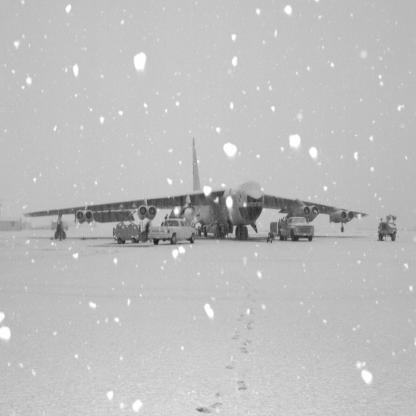B52: (23, 139, 370, 240)
